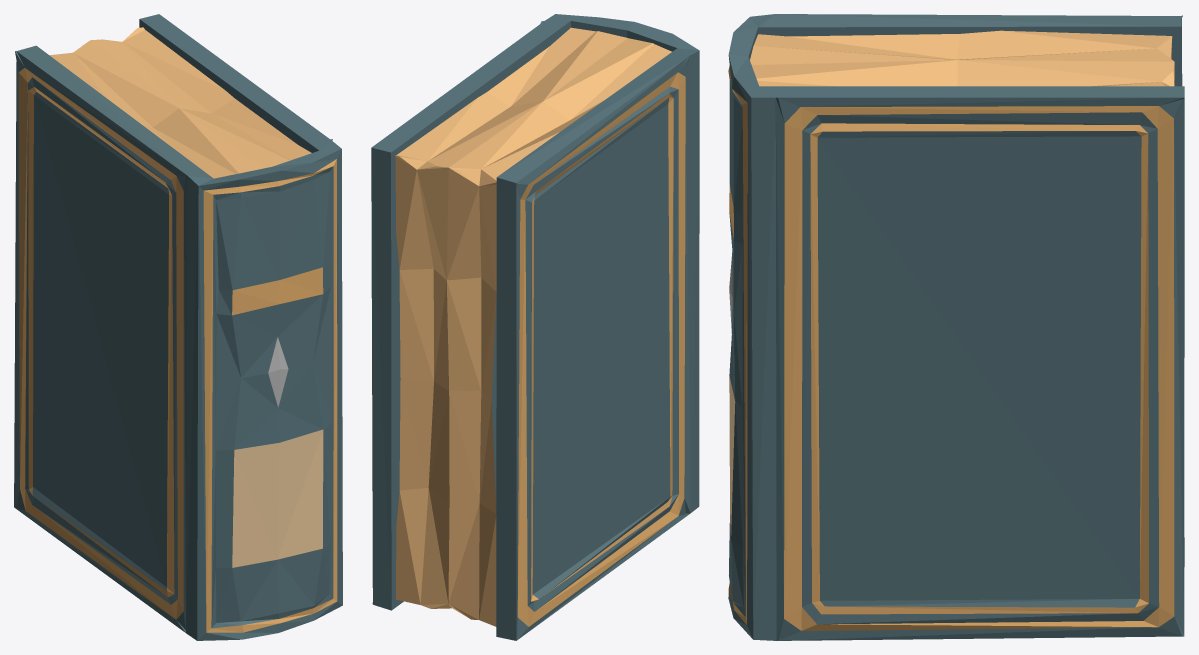
Rendered from SFHW_Book_015.fbx.
3 views of the same model, side by side, from view 1: azimuth 30°, elevation 25°; view 2: azimuth 150°, elevation 25°; view 3: azimuth 270°, elevation 25° (orthographic). The views are drawn at different scales.
Visible parts, largest first — view 1: SFHW_Book_015; view 2: SFHW_Book_015; view 3: SFHW_Book_015.
Part boxes in pixels (x1,y1,x2,y2): SFHW_Book_015: [14, 14, 342, 640]; SFHW_Book_015: [371, 14, 699, 640]; SFHW_Book_015: [728, 14, 1184, 640].
Bounding box in the file's own units: 10.66 × 31.55 × 23.88.
